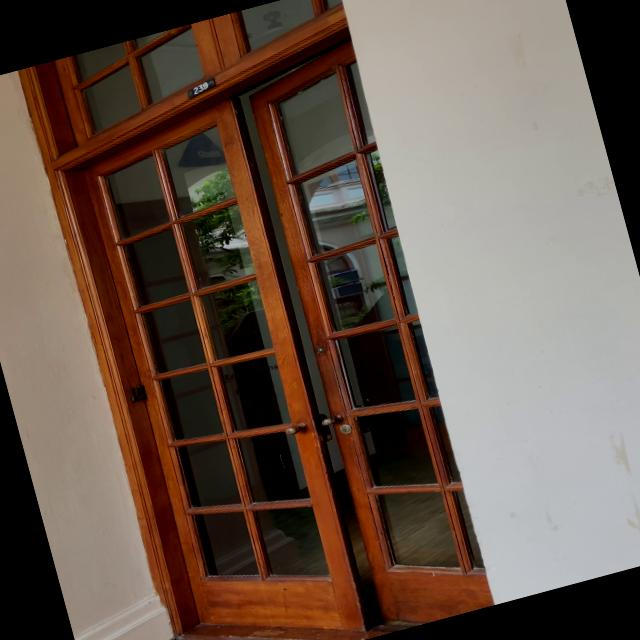room239: (185, 76, 218, 98)
